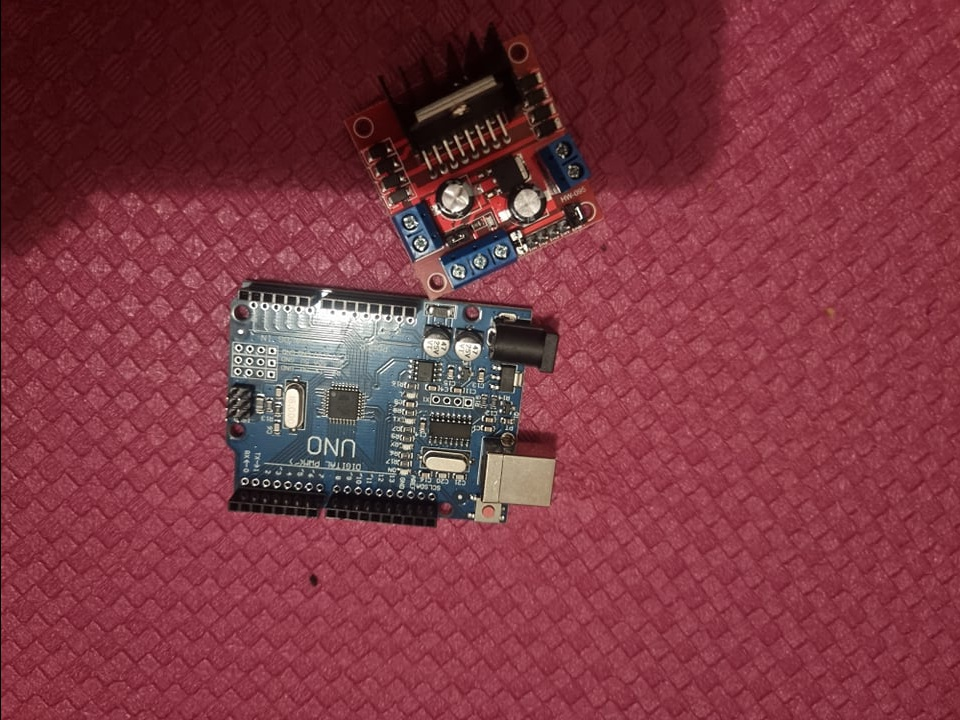MOTOR: (333, 35, 608, 300)
UNO R3: (217, 282, 570, 524)
